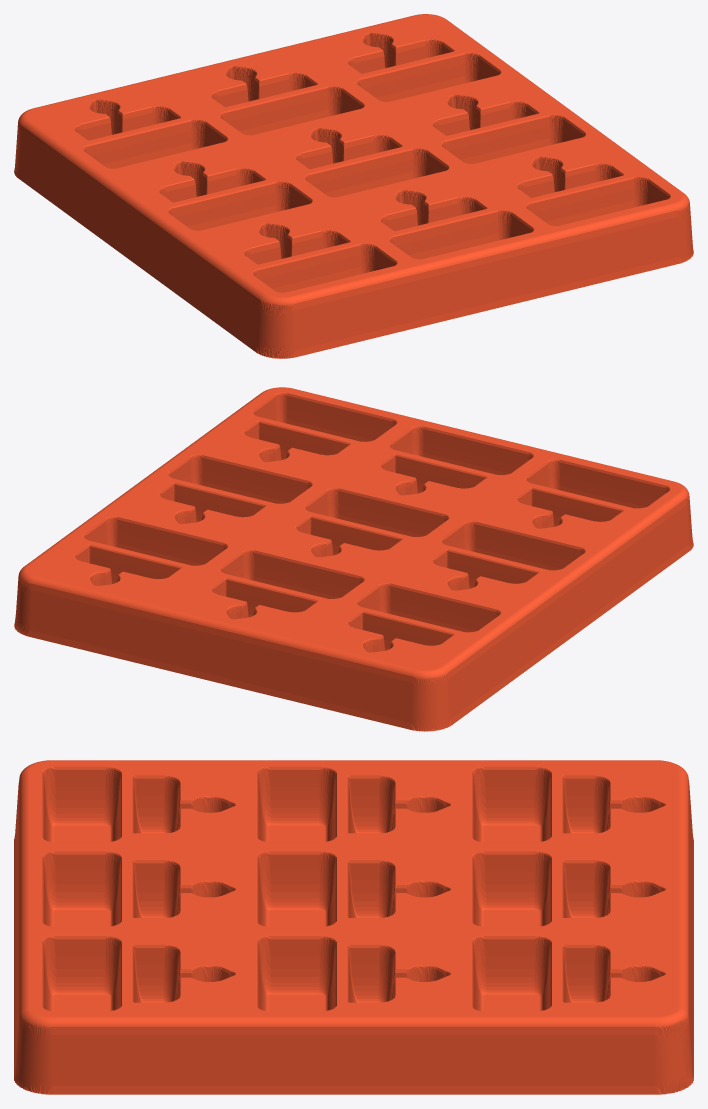
File: mold.glb
3 views of the same model, one above another, from view 1: azimuth 30°, elevation 25°; view 2: azimuth 150°, elevation 25°; view 3: azimuth 270°, elevation 25° (orthographic). The views are drawn at different scales.
Visible parts, largest first — view 1: geometry_0; view 2: geometry_0; view 3: geometry_0.
Boxes of the visible parts, bbox=[...] form: geometry_0: bbox=[14, 14, 693, 358]; geometry_0: bbox=[14, 387, 693, 731]; geometry_0: bbox=[14, 760, 693, 1094].
Size of the model in its own units: 0.1491 by 0.0185 by 0.1595.
